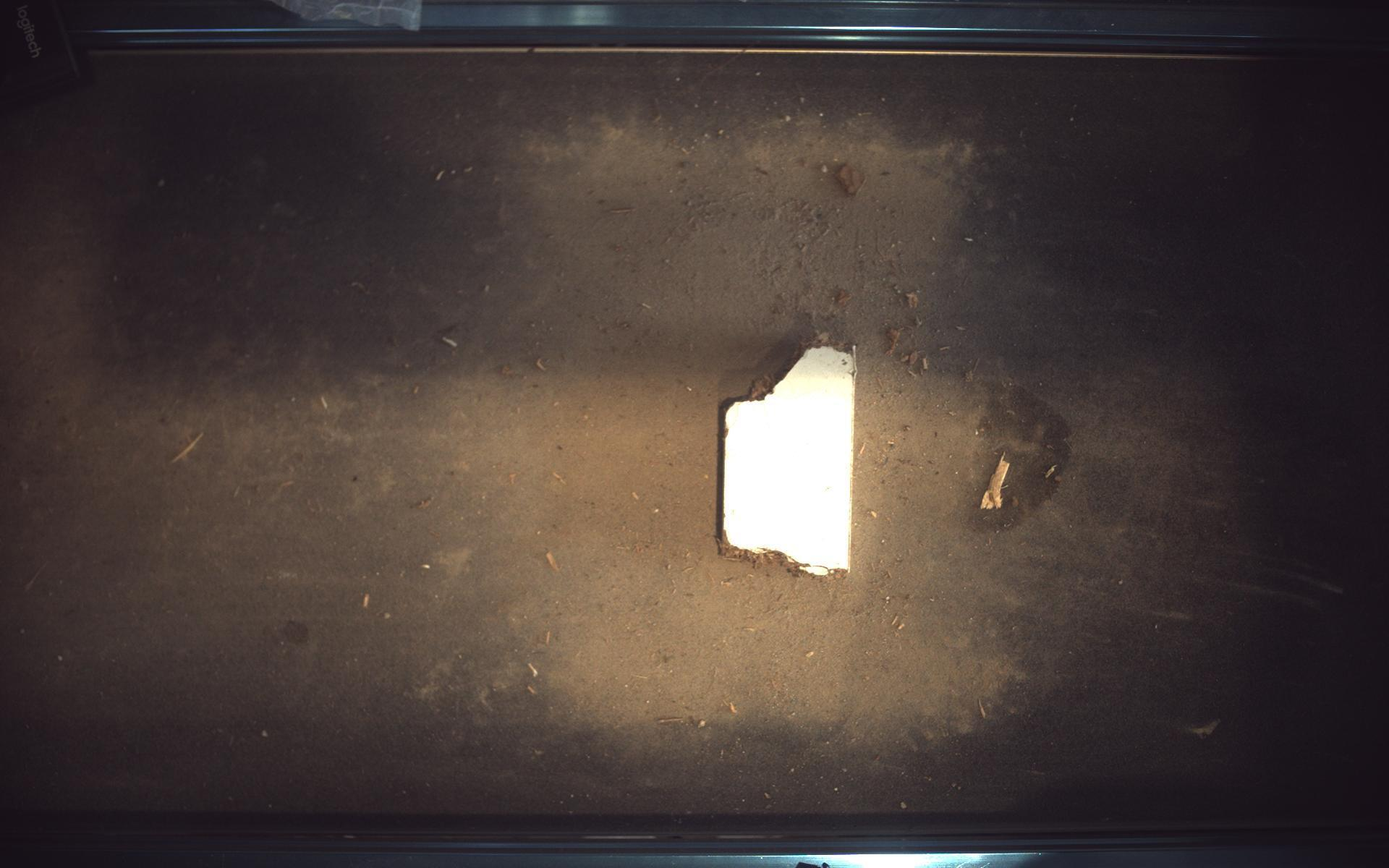wood: (722, 344, 858, 576)
